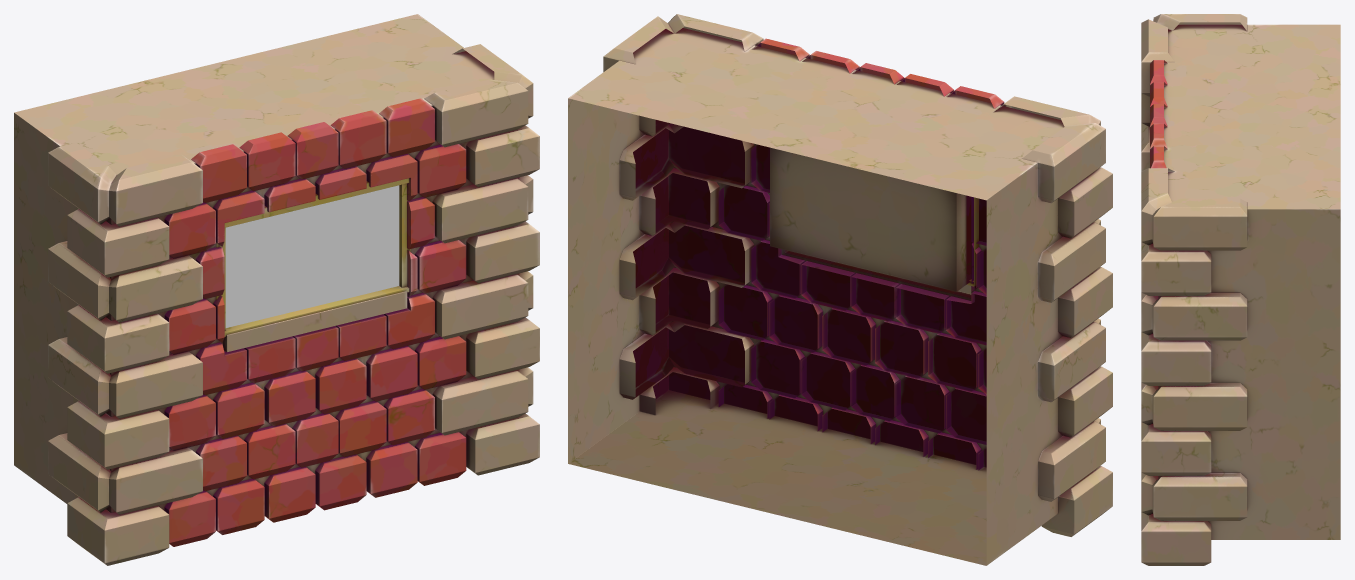
Rendered from window.fbx.
3 renders of one model, left to right at view 1: azimuth 30°, elevation 25°; view 2: azimuth 150°, elevation 25°; view 3: azimuth 270°, elevation 25°, orthographic. The views are drawn at different scales.
Parts seen in each view (by area): view 1: wall_mesh, window_mesh; view 2: wall_mesh; view 3: wall_mesh.
Part boxes in pixels (x1,y1,x2,y2): wall_mesh: [14, 14, 539, 565]; window_mesh: [225, 185, 399, 327]; wall_mesh: [568, 14, 1112, 565]; wall_mesh: [1141, 14, 1340, 565].
Bounding box in the file's own units: 652 × 548 × 276.
